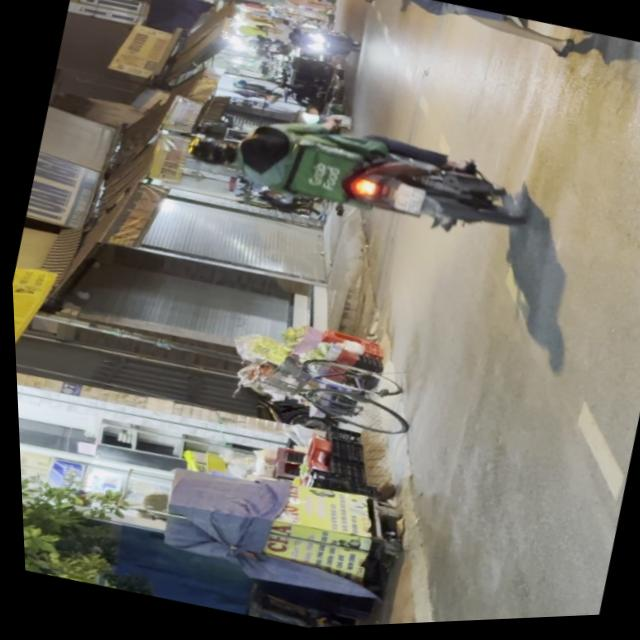helmet: (183, 133, 239, 174)
licenseplate: (172, 84, 533, 267), (200, 0, 618, 85)
nohelmet: (388, 186, 422, 219)
